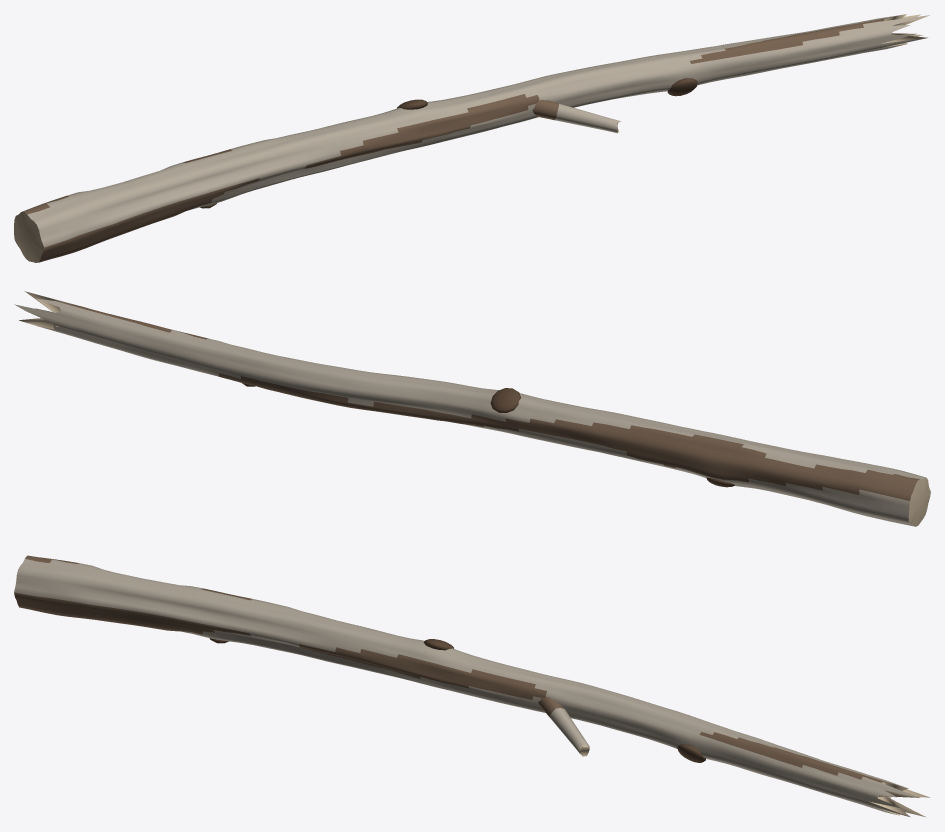
Rendered from BeachStick.fbx.
The picture shows the model from 3 angles, top to bottom: view 1: azimuth 30°, elevation 25°; view 2: azimuth 150°, elevation 25°; view 3: azimuth 330°, elevation 25°; orthographic projection.
Parts seen in each view (by area): view 1: BeachStick; view 2: BeachStick; view 3: BeachStick.
Boxes of the visible parts, bbox=[...] form: BeachStick: bbox=[14, 14, 930, 262]; BeachStick: bbox=[14, 291, 930, 526]; BeachStick: bbox=[14, 555, 930, 817].
Size of the model in its own units: 117 by 7.39 by 9.89.
